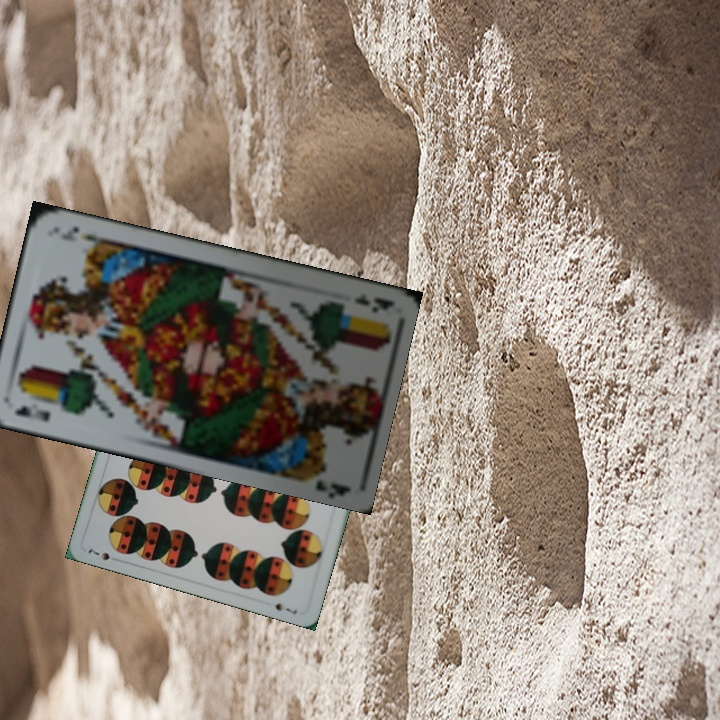EK: (350, 290, 394, 315), (12, 401, 53, 425)
S7: (84, 544, 112, 563)
